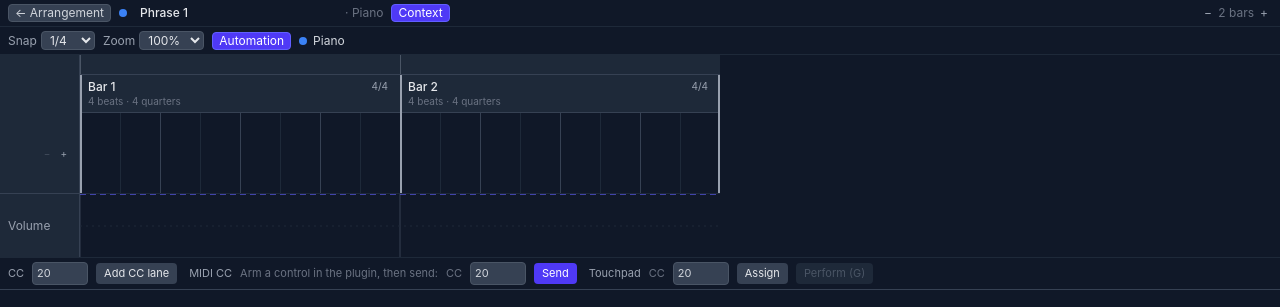
Test: ChordTimeline MIDI CC lanes › refuses to send a controller the plugin does not map
The image size is (1280, 307).
Replace the text in the number field named "Controller number to learn" with "74": [498, 274] box [470, 262, 526, 285]
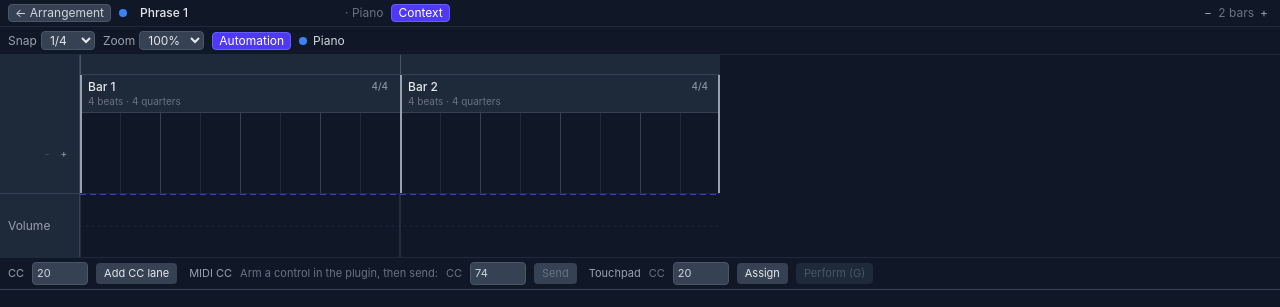
Expected: the button "Send" is disabled, [534, 263, 577, 284]
